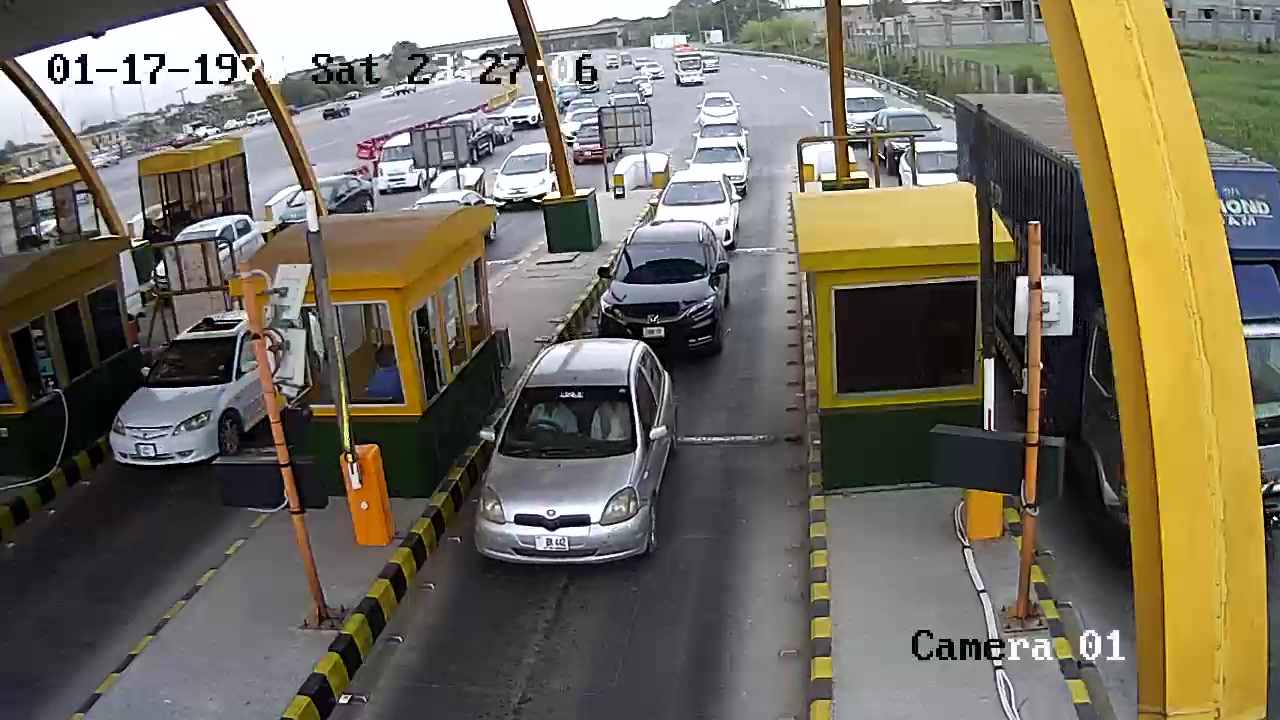F1: (476, 338, 681, 578), (584, 219, 737, 358)
